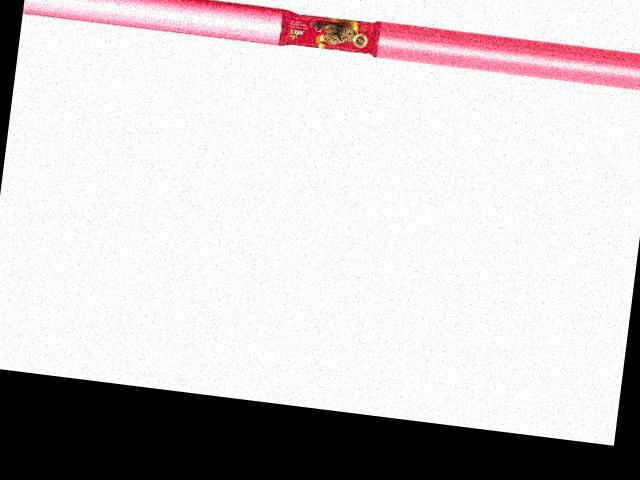chocolate: (277, 5, 379, 56)
